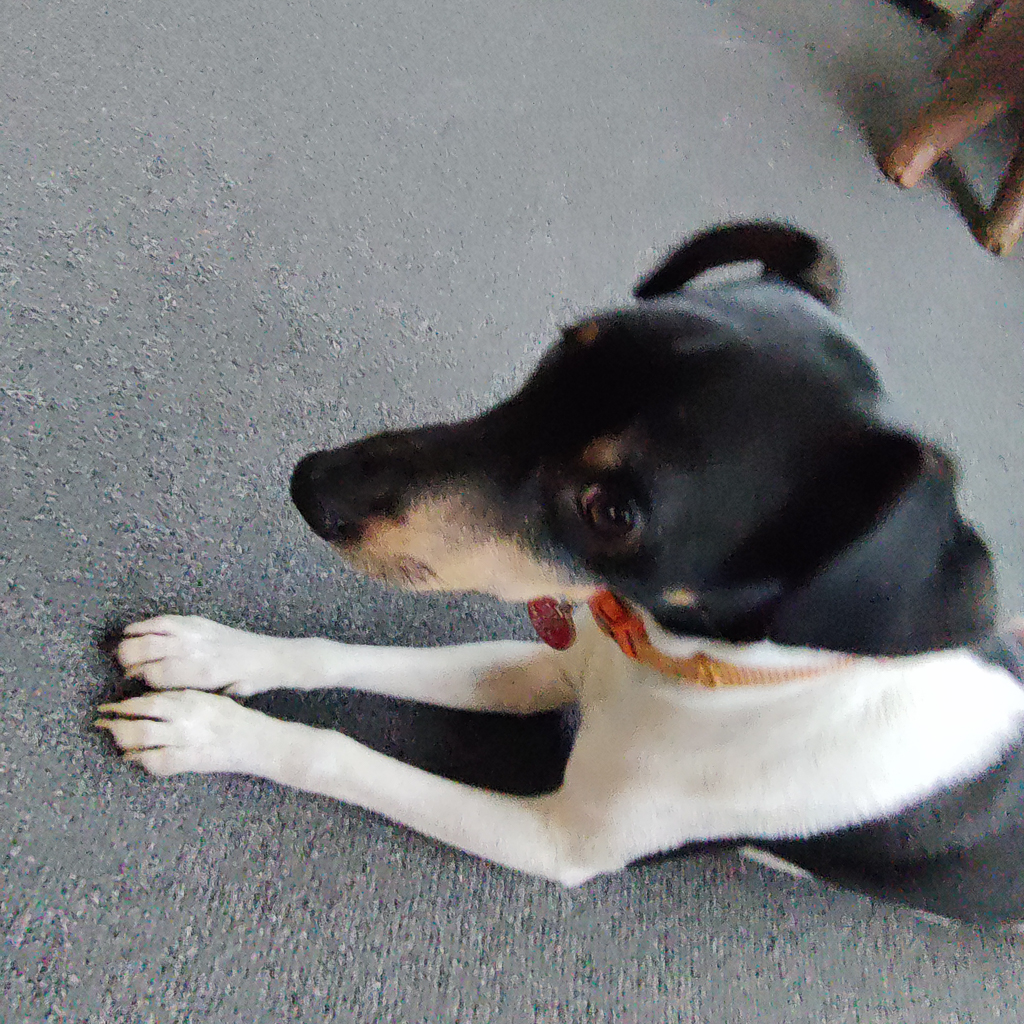Cattle: (856, 0, 1024, 268)
Dog: (81, 203, 1024, 957)
